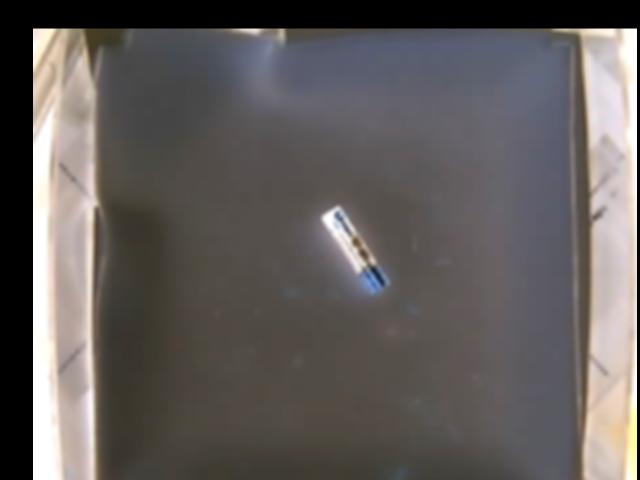Battery: (320, 204, 387, 292)
